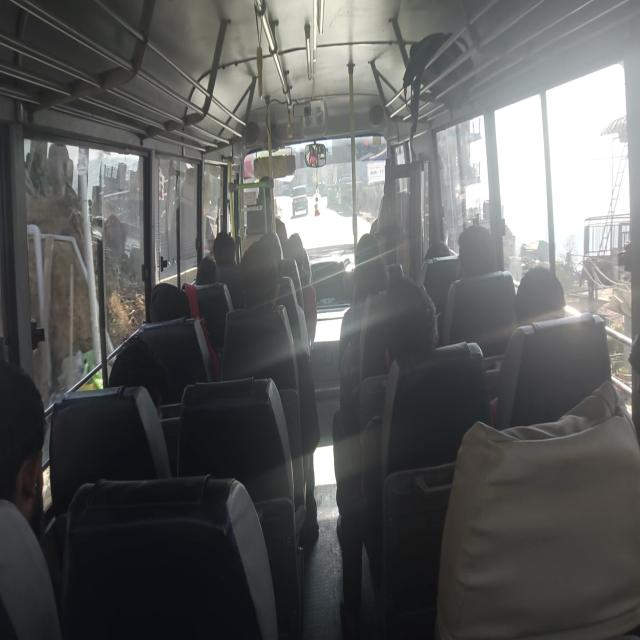person: (0, 392, 66, 550), (517, 262, 573, 346), (236, 248, 284, 323), (387, 292, 430, 366), (454, 222, 494, 289), (139, 280, 181, 332), (198, 254, 234, 309), (364, 251, 398, 304), (252, 227, 290, 265), (288, 227, 314, 272), (425, 218, 454, 256), (213, 232, 236, 269), (364, 231, 384, 254)
